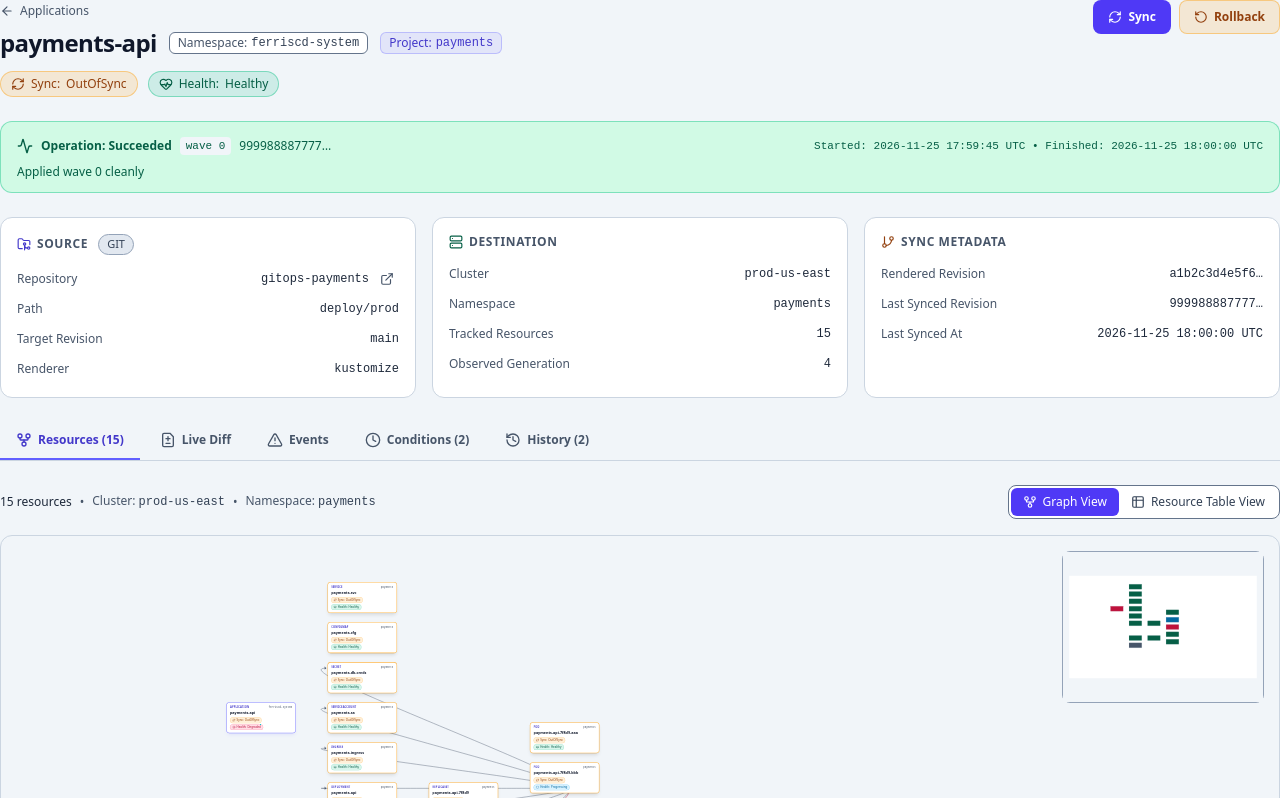
Test: ApplicationDetailPage (T16.2 & T16.4 integration) › displays separate Sync and Health badges, source/destination summary, conditions timeline, and history table
The image size is (1280, 798).
Expected: the heading "payments-api" is shown, [0,27,157,59]
Expected: the element with test id "sync-status-badge" reads "Sync: OutOfSync", [0,71,138,97]
# Conditions timeline tab
Step 1. Click the tab "Conditions (2)" → (417, 441), box [349,422,485,460]
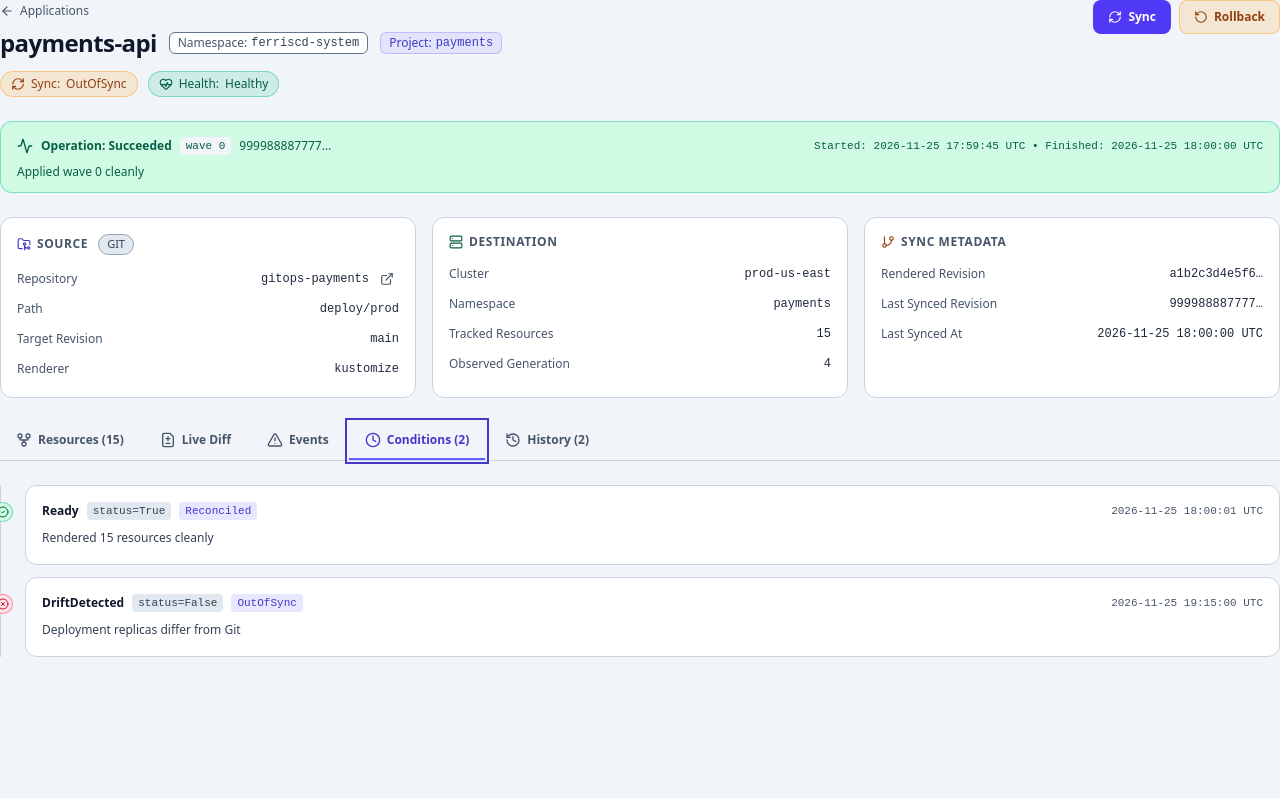
Expected: the element with test id "conditions-timeline" shows "Reconciled", [185,505,251,517]
Expected: the element with test id "conditions-timeline" shows "Deployment replicas differ from Git", [42,622,241,638]
# History table tab
Step 2. Click the tab "History (2)" → (547, 441), box [489,422,605,460]
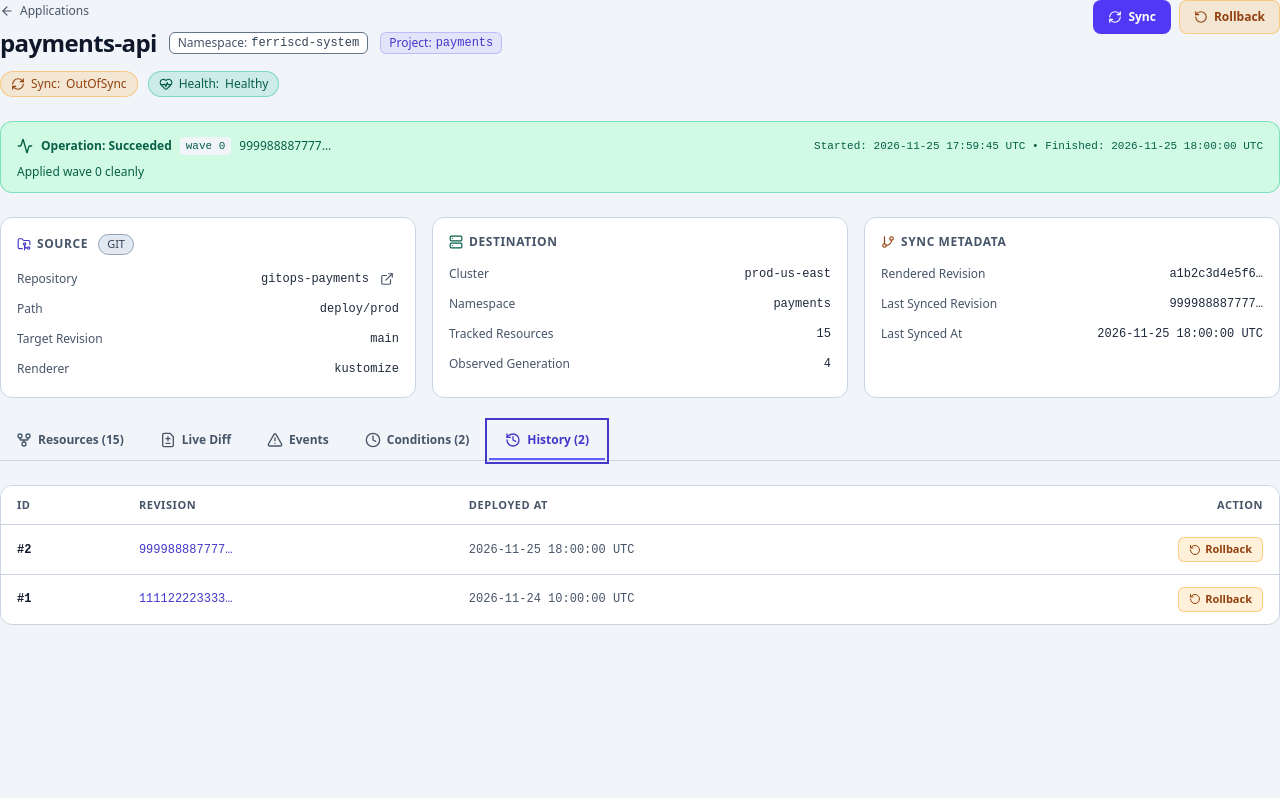
Expected: the element with test id "history-table" shows "#2", [0,485,1279,625]
Expected: the element with test id "history-table" shows "#1", [0,485,1279,625]
# Diff tab
Step 3. Click the tab "Live Diff" → (195, 441), box [144,422,247,460]
(page scrolled)
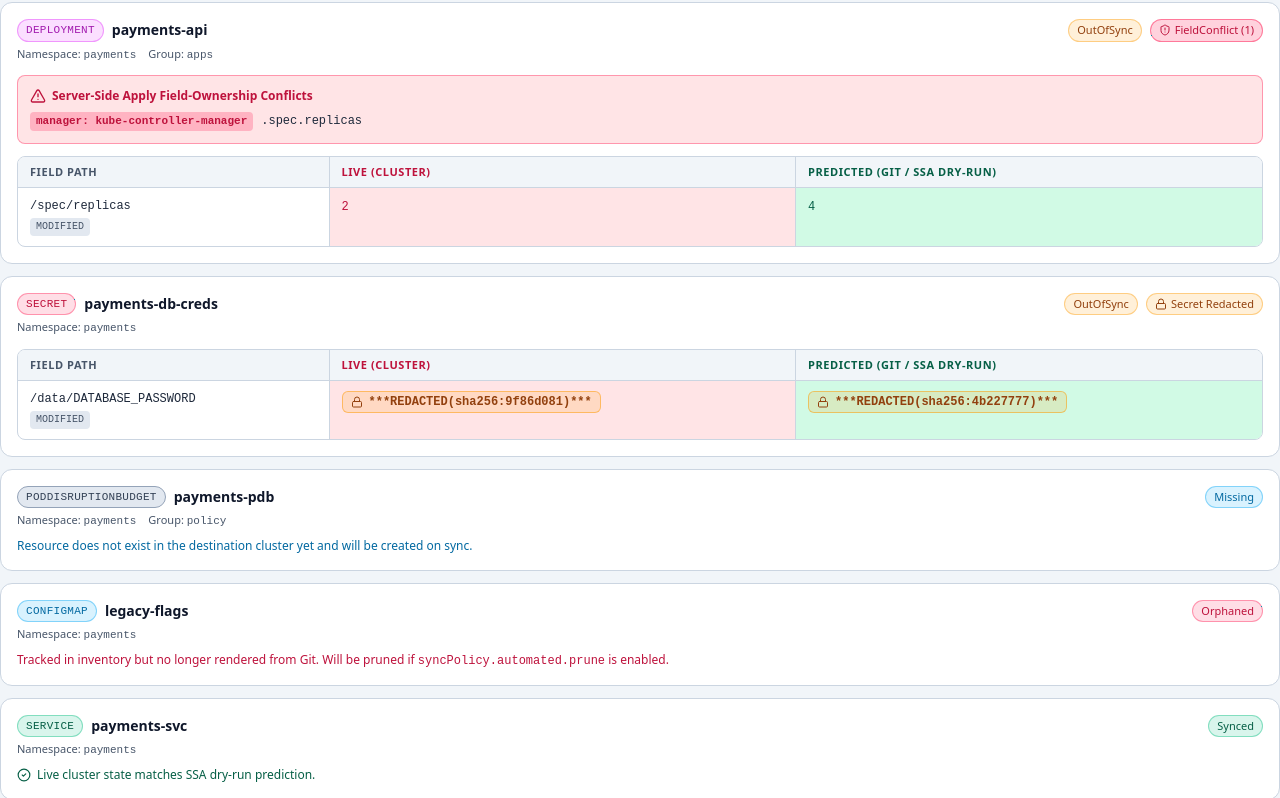
Expected: the text "***REDACTED(sha256:9f86d081)***" is shown, [342,392,601,414]
